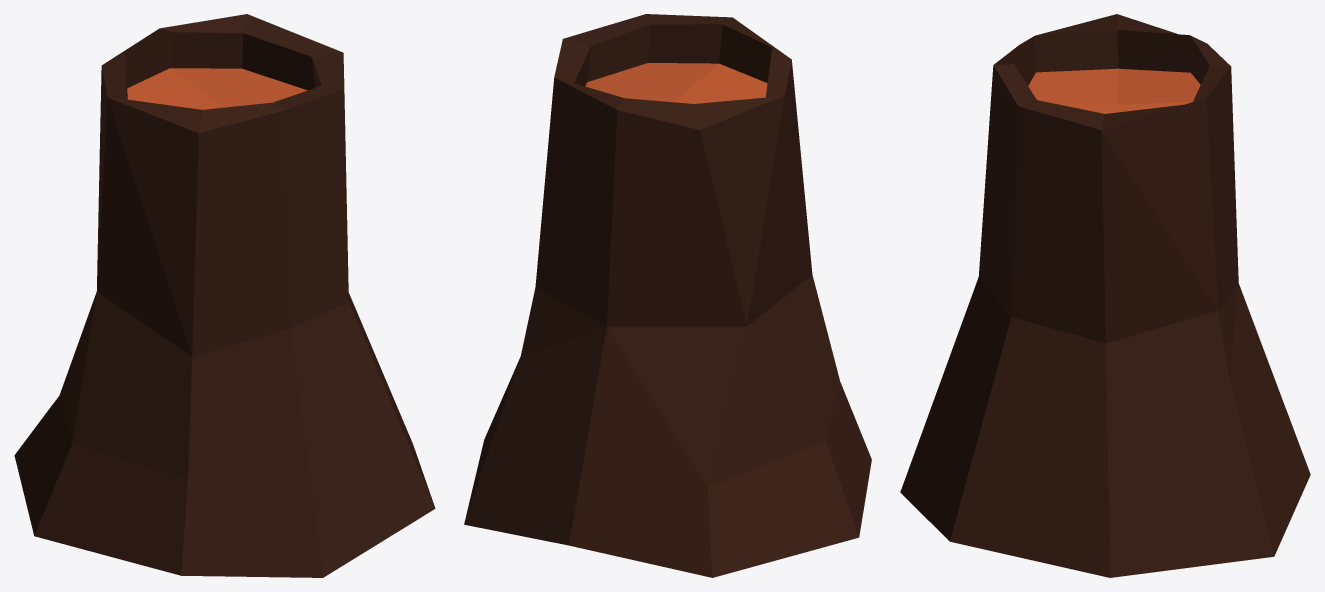
The model's file is ARBOL CORTADO.FBX.
3 views of the same model, side by side, from view 1: azimuth 30°, elevation 25°; view 2: azimuth 150°, elevation 25°; view 3: azimuth 270°, elevation 25° (orthographic).
Visible parts, largest first — view 1: tronco004; view 2: tronco004; view 3: tronco004.
Boxes of the visible parts, <box> form: tronco004: <box>14,14,435,577</box>; tronco004: <box>464,14,871,577</box>; tronco004: <box>900,14,1310,577</box>.
Bounding box in the file's own units: 19.23 × 21.19 × 18.24.
